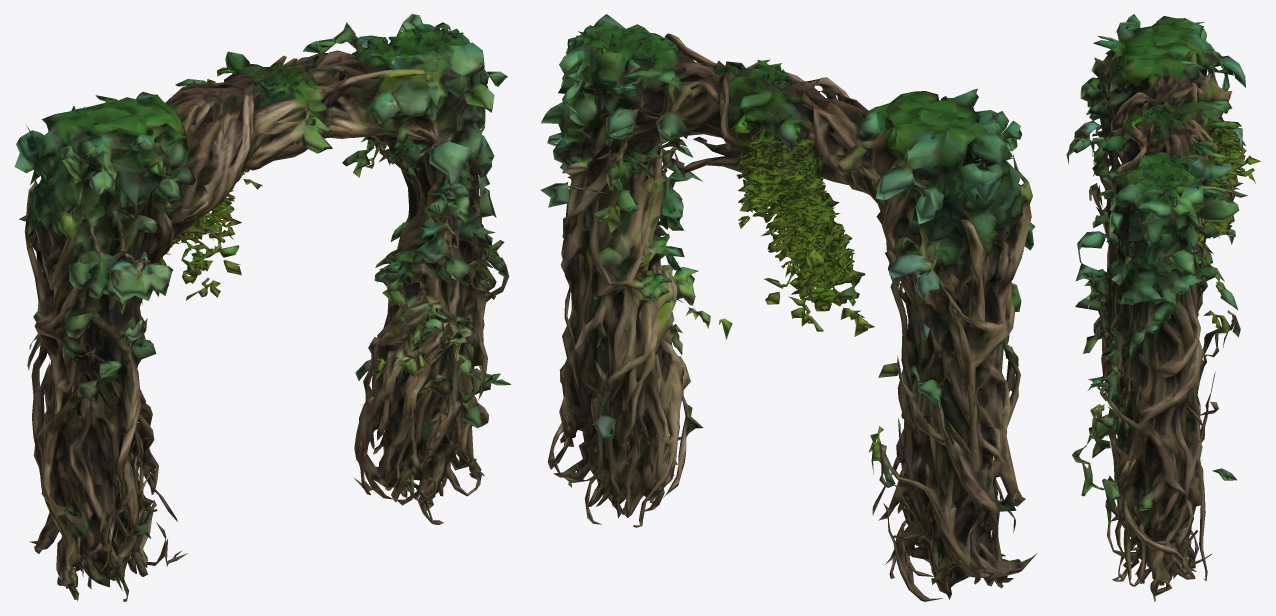
The model's file is A_large_arch_made_fr.glb.
3 views of the same model, side by side, from view 1: azimuth 30°, elevation 25°; view 2: azimuth 150°, elevation 25°; view 3: azimuth 270°, elevation 25° (orthographic). The views are drawn at different scales.
Parts seen in each view (by area): view 1: A_large_arch_made_fr; view 2: A_large_arch_made_fr; view 3: A_large_arch_made_fr.
Part boxes in pixels (<box>): A_large_arch_made_fr: <box>14,14,510,601</box>; A_large_arch_made_fr: <box>540,14,1037,601</box>; A_large_arch_made_fr: <box>1066,14,1260,601</box>.
Bounding box in the file's own units: 2 × 2 × 0.8494.
1 material, 1 textured.
